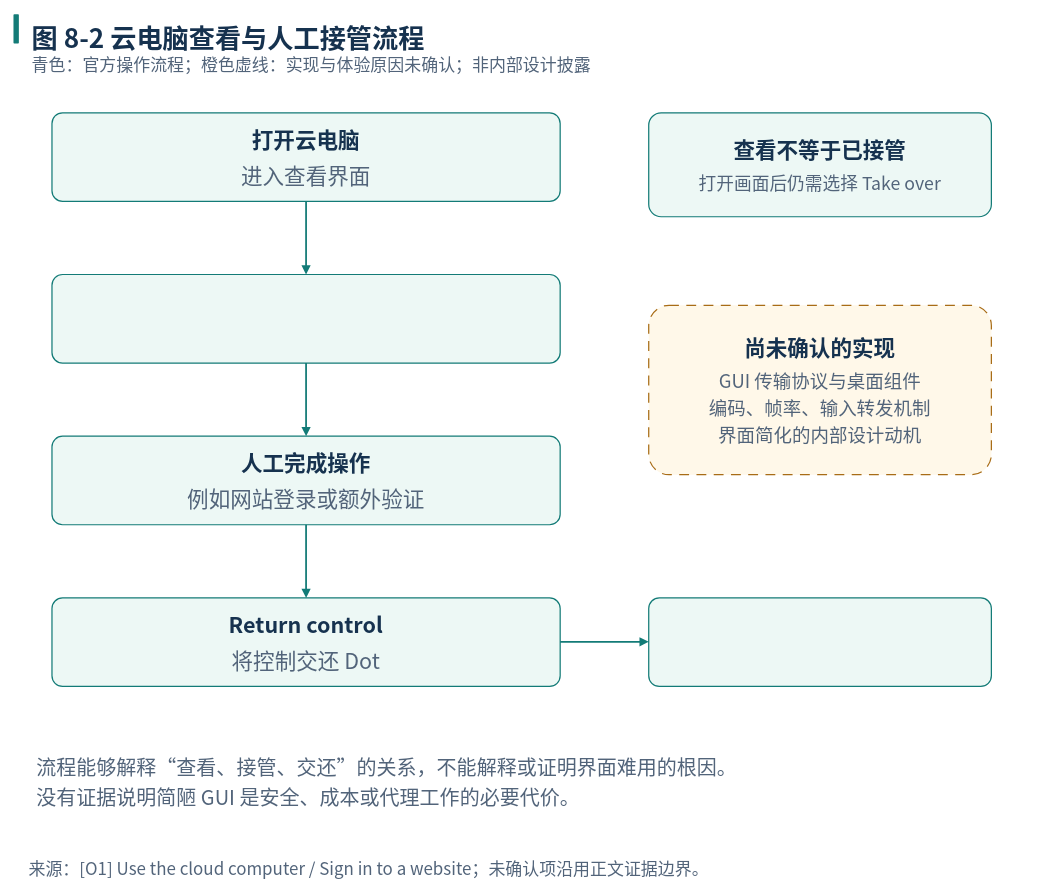
This 1046x896 diagram has some shape labels left out. The centre of each missing label's shape, as x and y in pixels:
Dot 继续任务 控制权交接后的工作延续: (820,642)
Take over 取得鼠标与键盘控制: (305,318)
